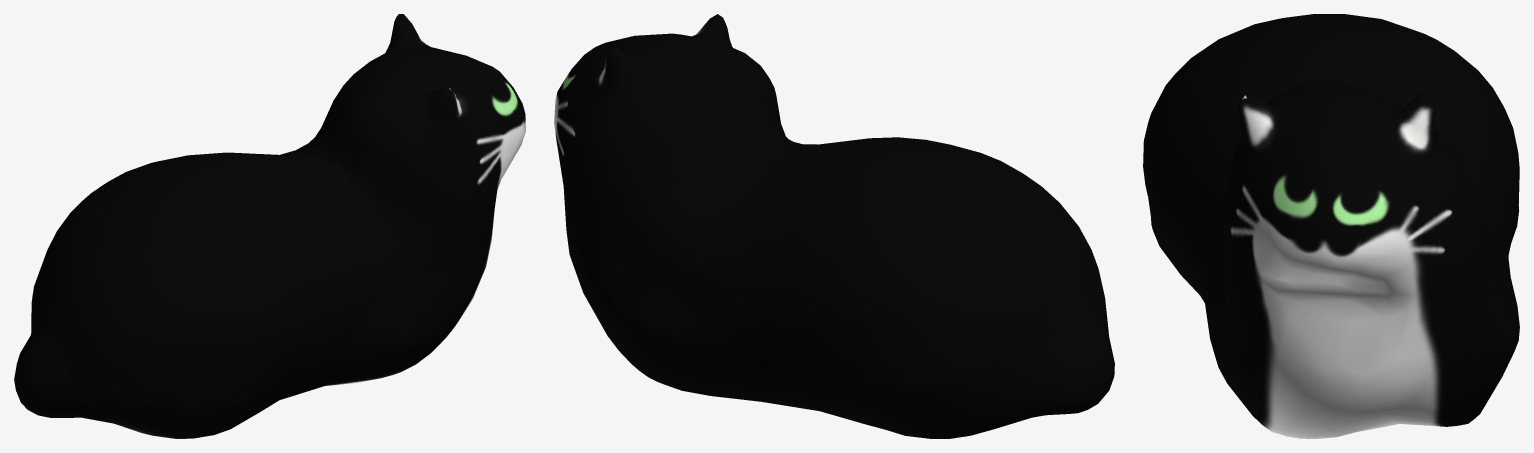
Rendered from Cat.fbx.
3 renders of one model, left to right at view 1: azimuth 30°, elevation 25°; view 2: azimuth 150°, elevation 25°; view 3: azimuth 270°, elevation 25°, orthographic. The views are drawn at different scales.
Visible parts, largest first — view 1: Cube; view 2: Cube; view 3: Cube.
Boxes of the visible parts, x1,y1,x2,y2 form: Cube: [14, 14, 525, 438]; Cube: [554, 14, 1114, 438]; Cube: [1143, 14, 1519, 438].
Bounding box in the file's own units: 481 × 269 × 246.
